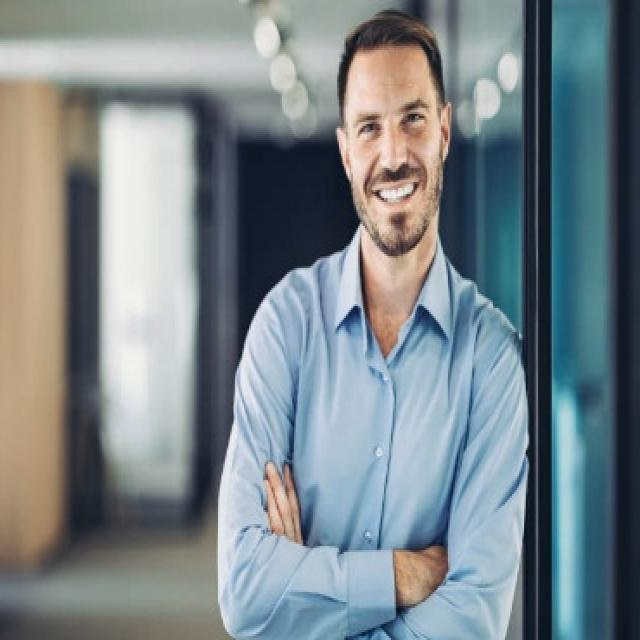adult: (208, 0, 543, 638)
